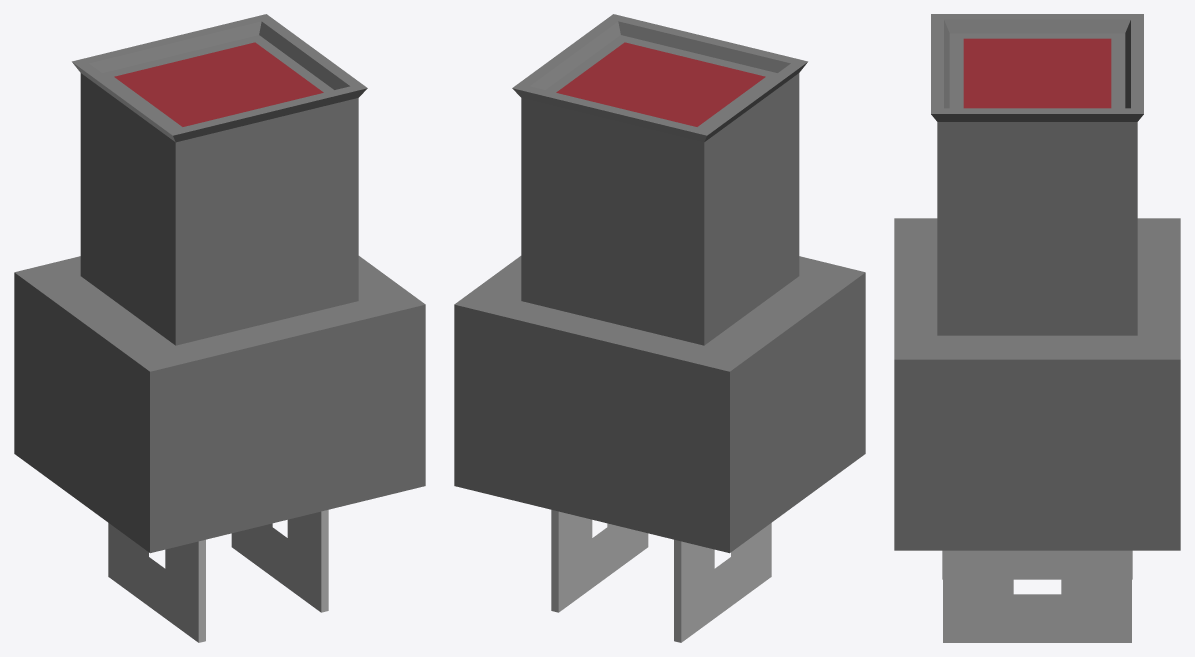
The model's file is WardenBoard-Guard(OFF).fbx.
3 views of the same model, side by side, from view 1: azimuth 30°, elevation 25°; view 2: azimuth 150°, elevation 25°; view 3: azimuth 270°, elevation 25° (orthographic). The views are drawn at different scales.
Parts seen in each view (by area): view 1: Cube.016; view 2: Cube.016; view 3: Cube.016.
Part boxes in pixels (x1,y1,x2,y2): Cube.016: [14, 14, 425, 642]; Cube.016: [454, 14, 865, 642]; Cube.016: [894, 14, 1180, 642].
Size of the model in its own units: 52.78 by 94.96 by 45.09.
